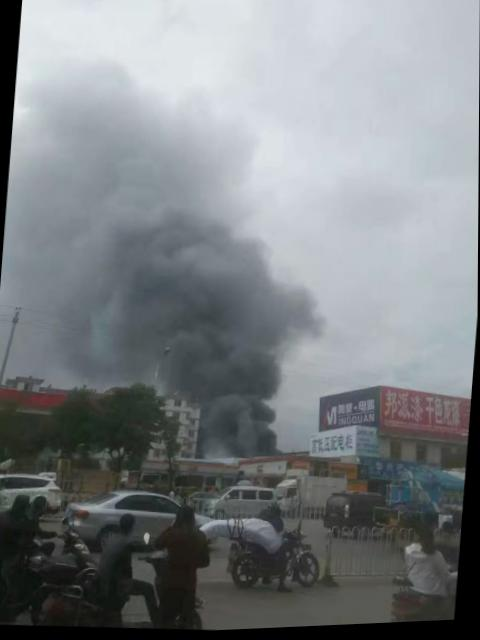smoke: (71, 199, 309, 290), (156, 276, 328, 399), (51, 280, 154, 380), (206, 393, 275, 455)
